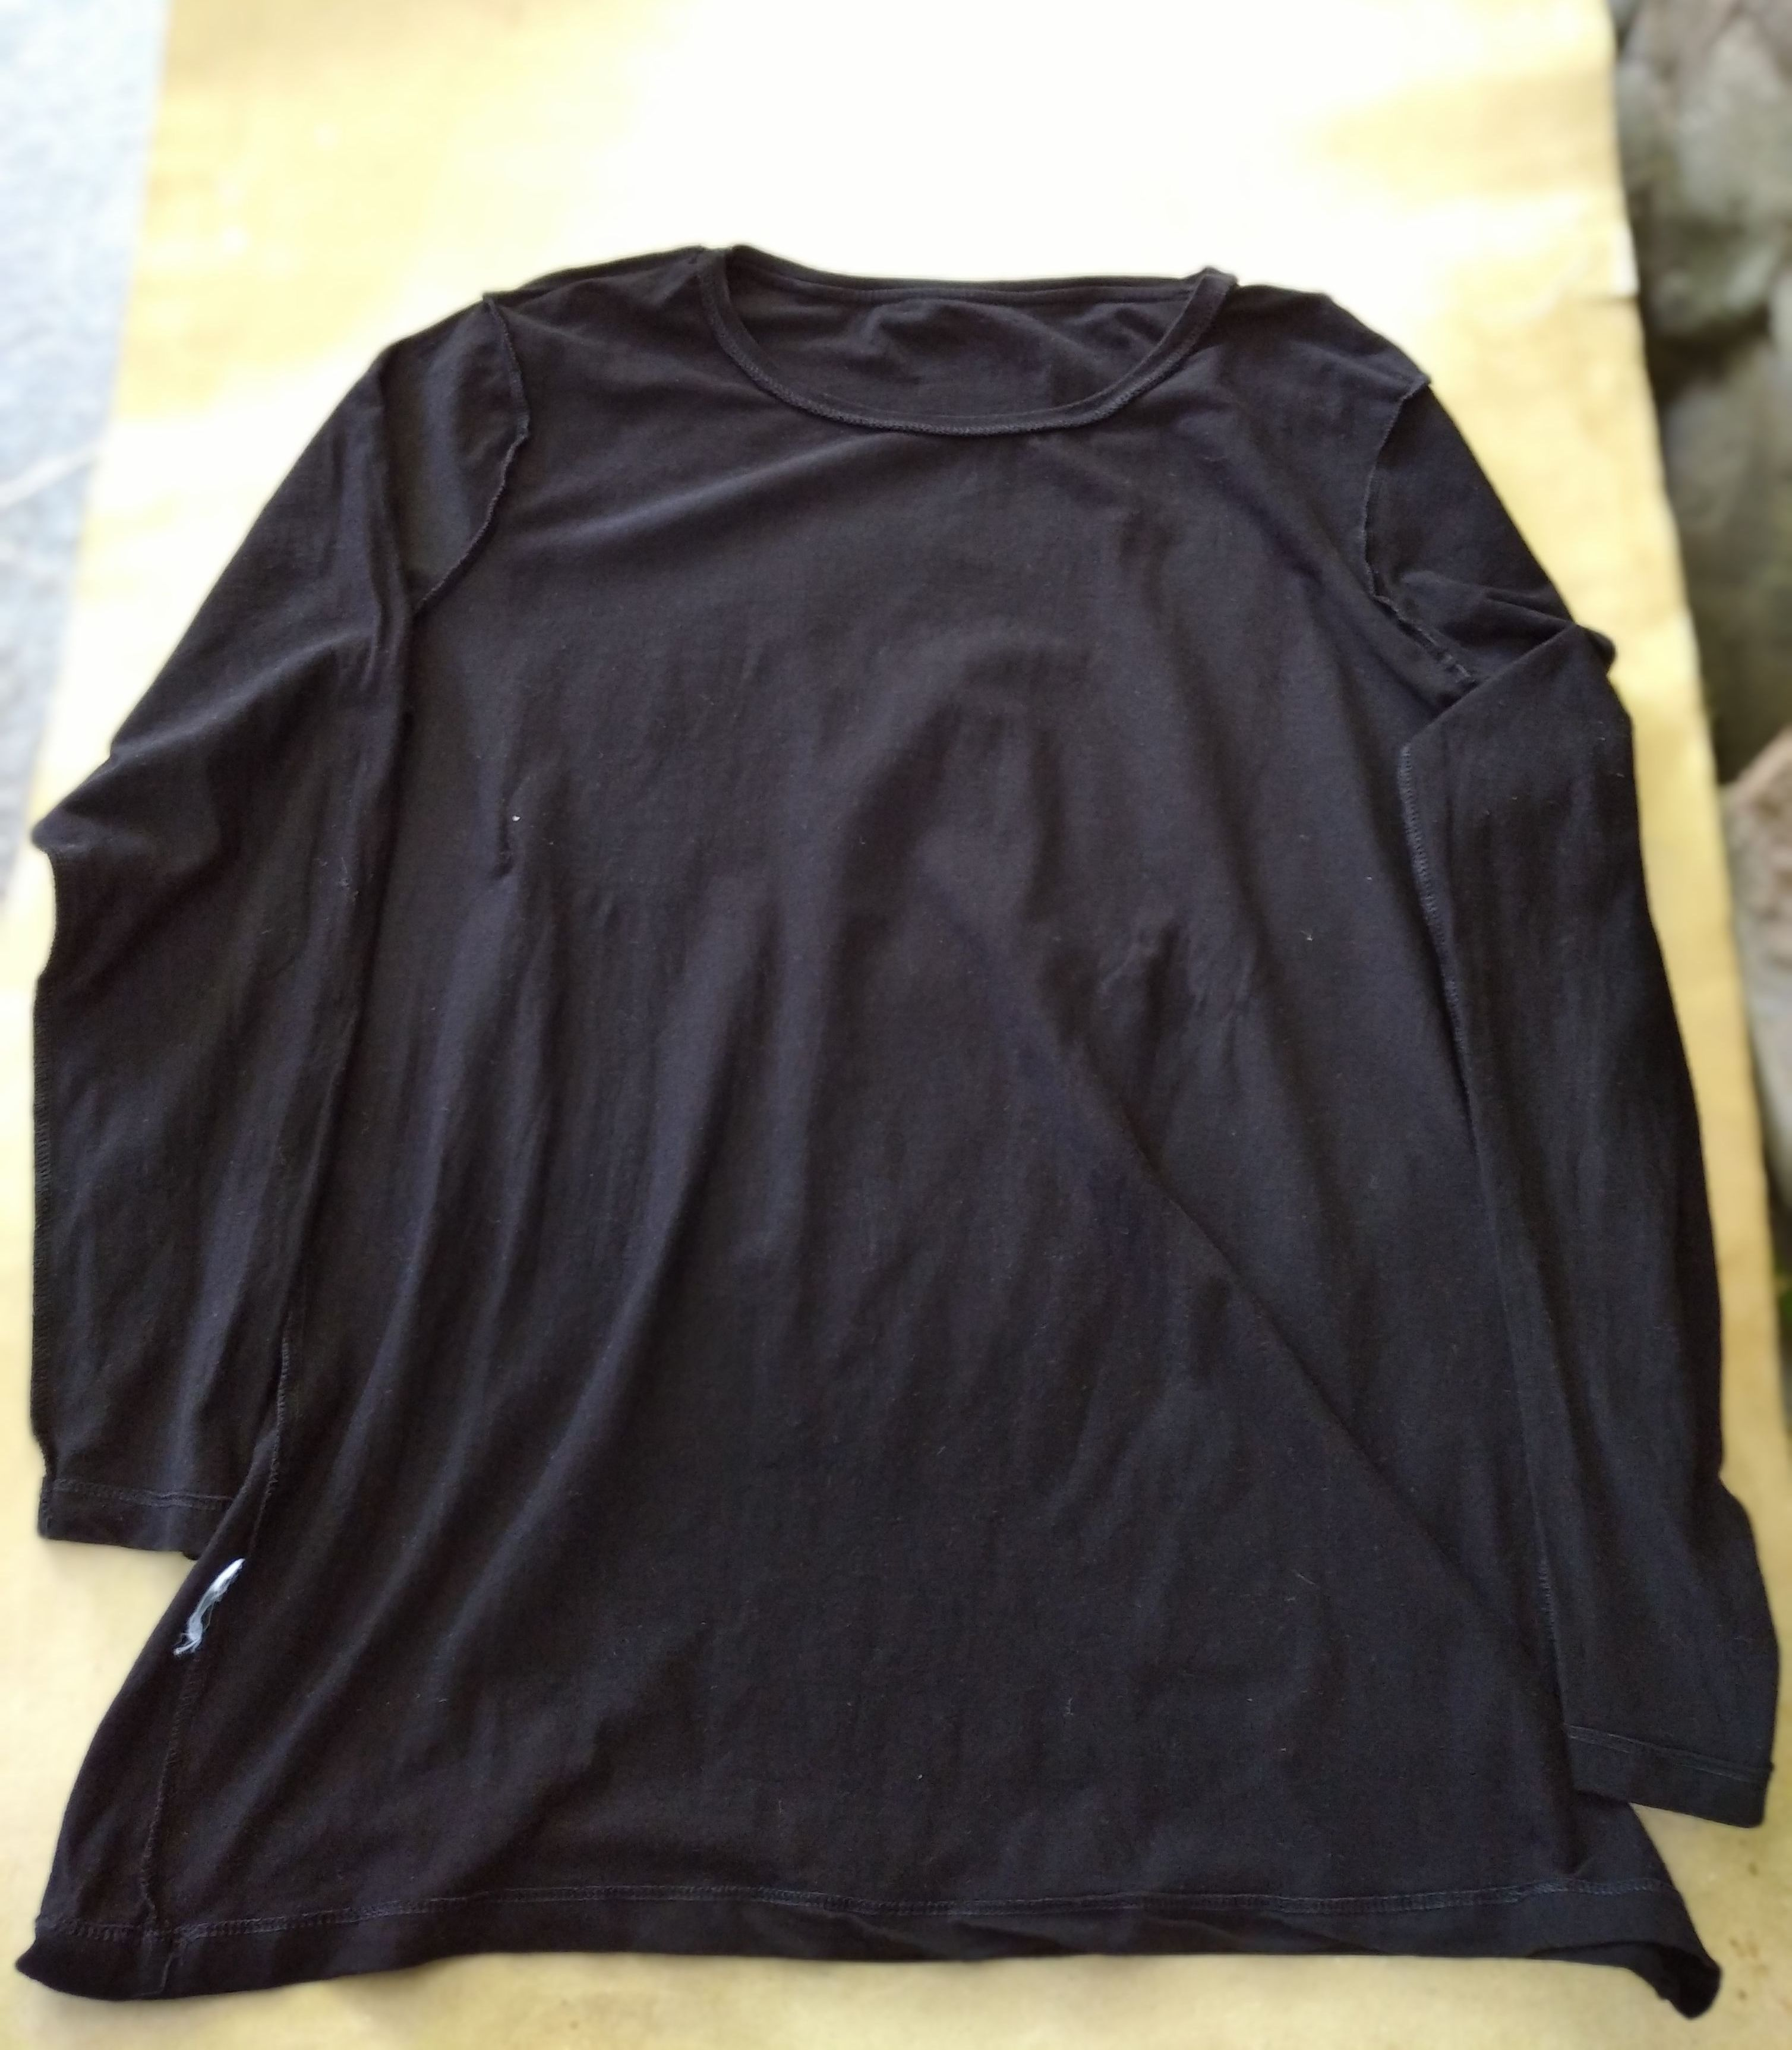clothes: (5, 239, 1792, 2024)
